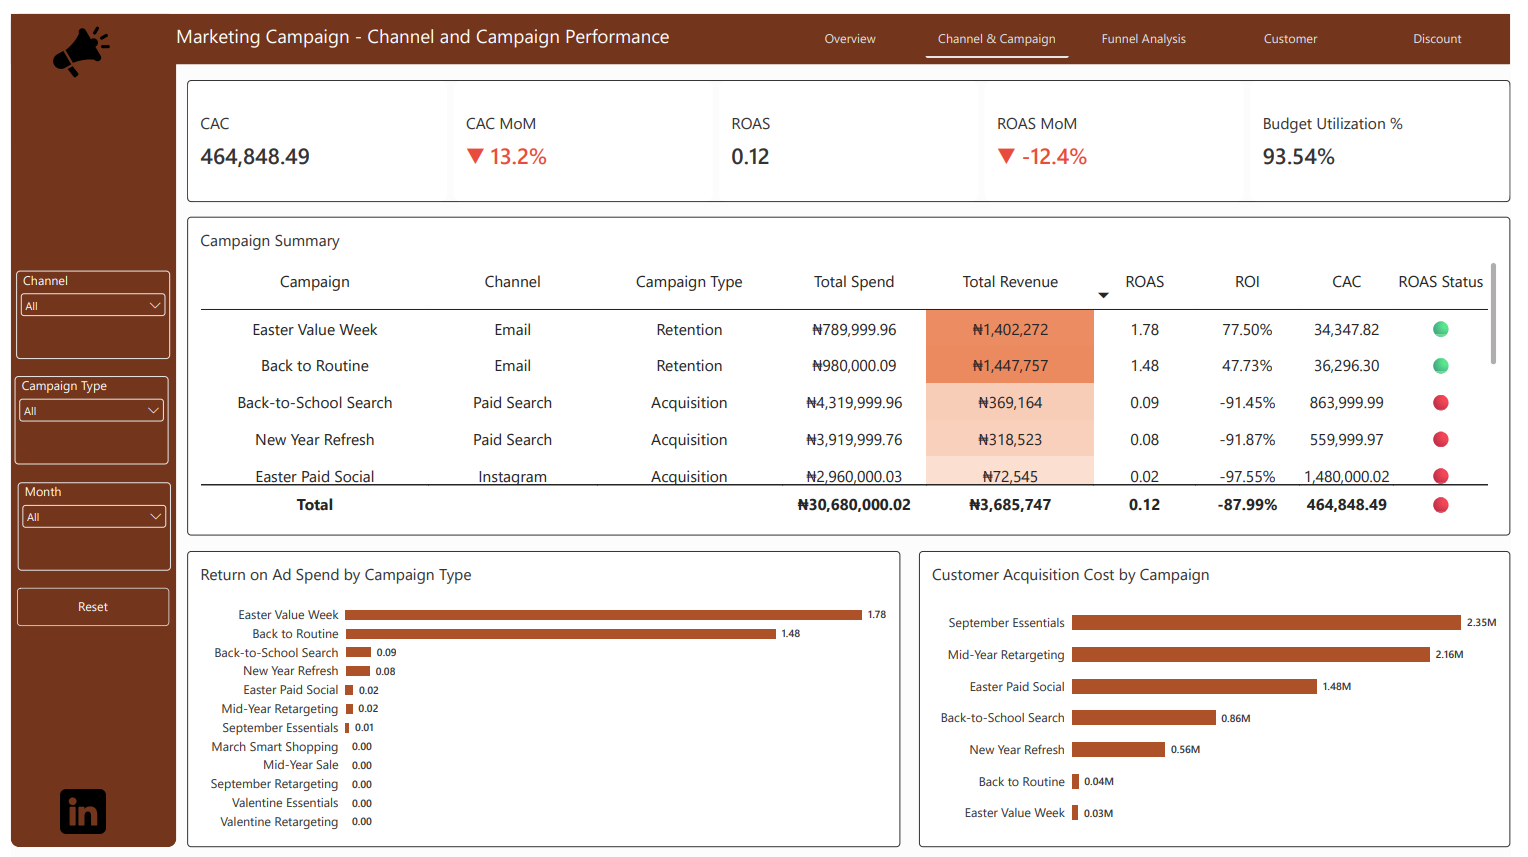

This screenshot's page, from the dashboard's own definition file:
{"tool":"powerbi","page":{"name":"Channel & Campaign","canvas":[1920,1080],"ordinal":1},"visuals":[{"type":"shape","box":[0,0,212.3,1066.8],"z":0},{"type":"shape","box":[0,0,1919.6,65.1],"z":1000},{"type":"textbox","box":[212.3,12,655.8,39.4],"z":2000},{"type":"cardVisual","fields":{"Data":["Measures Page 1.CAC","Measures Page 1.CAC MoM % Change","Measures Page 1.ROAS","Measures Page 1.ROAS MoM % Change","Measures Page 1.Budget Utilization %"]},"box":[226,85,1693.5,155.8],"z":3000},{"type":"tableEx","title":"Campaign Summary","fields":{"Values":["Campaigns.Campaign_Name","Campaigns.Channel","Campaigns.Campaign_Type","Measures Page 1.Total Spend","Measures Page 1.Total Revenue","Measures Page 1.ROAS","Measures Page 1.ROI","Measures Page 1.CAC","Measures Page 1.ROAS Status Icon"]},"box":[226,260.3,1693.5,407.5],"z":4000},{"type":"barChart","title":"Return on Ad Spend by Campaign Type","fields":{"Category":["Campaigns.Campaign_Name"],"Y":["Measures Page 1.ROAS"]},"box":[226,688.4,912.7,378.4],"z":5000},{"type":"barChart","title":"Customer Acquisition Cost by Campaign","fields":{"Category":["Campaigns.Campaign_Name"],"Y":["Measures Page 1.CAC"]},"box":[1162.7,688.4,756.9,378.4],"z":6000},{"type":"slicer","fields":{"Values":["Campaigns.Channel"]},"box":[7.1,329.3,196.9,113],"z":7000},{"type":"slicer","fields":{"Values":["Campaigns.Campaign_Type"]},"box":[5.4,464.4,196.9,113],"z":8000},{"type":"image","box":[61.6,993.2,59.9,56.5],"z":9000},{"type":"image","box":[34.2,12,113,73.6],"z":10000},{"type":"slicer","fields":{"Values":["Calendar Date.Month Name"]},"box":[8.6,599.5,196.9,113],"z":11000},{"type":"pageNavigator","box":[982.9,6.8,938.4,49.7],"z":12000},{"type":"actionButton","box":[8.3,734.6,195.2,49.7],"z":12001}]}

Visuals, with their boxes in screenshot pixels (x1, y1, x2, y2), scaled from the page's 1920x1080 canvas onto the 1528x857 screenshot:
shape: locate(0, 0, 169, 847)
shape: locate(0, 0, 1527, 52)
textbox: locate(169, 10, 691, 41)
cardVisual - Measures Page 1.CAC x Measures Page 1.CAC MoM % Change: locate(180, 67, 1527, 191)
"Campaign Summary" tableEx: locate(180, 207, 1527, 530)
"Return on Ad Spend by Campaign Type" barChart: locate(180, 546, 906, 847)
"Customer Acquisition Cost by Campaign" barChart: locate(925, 546, 1527, 847)
slicer - Campaigns.Channel: locate(6, 261, 162, 351)
slicer - Campaigns.Campaign_Type: locate(4, 369, 161, 458)
image: locate(49, 788, 97, 833)
image: locate(27, 10, 117, 68)
slicer - Calendar Date.Month Name: locate(7, 476, 164, 565)
pageNavigator: locate(782, 5, 1527, 45)
actionButton: locate(7, 583, 162, 622)
